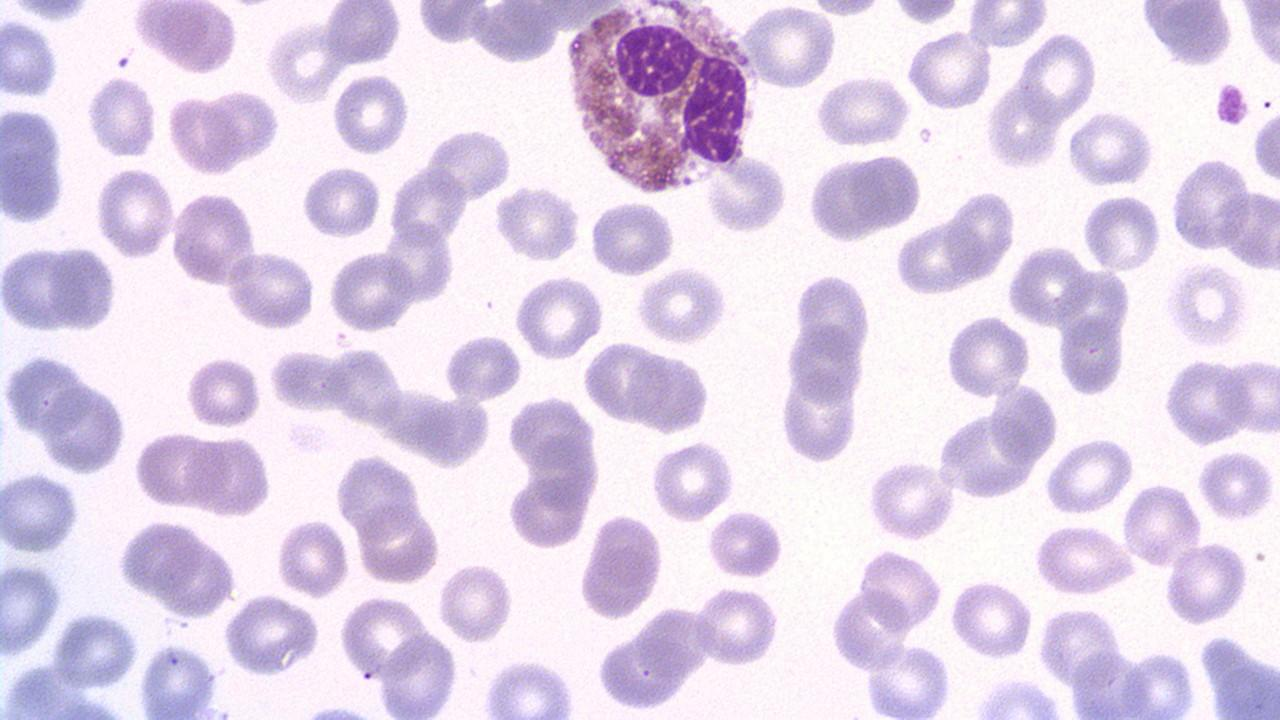Platelets: (221, 596, 321, 676), (703, 510, 786, 578), (267, 348, 349, 414), (0, 16, 61, 103), (1251, 106, 1280, 184), (4, 0, 93, 23), (1210, 81, 1250, 129), (282, 419, 330, 456), (915, 125, 933, 146)
RBC: (577, 511, 664, 621), (169, 191, 256, 289), (739, 5, 839, 90), (222, 593, 320, 679), (128, 0, 237, 76), (513, 272, 604, 363), (1169, 155, 1251, 254), (337, 594, 429, 682), (635, 263, 731, 347), (1030, 522, 1136, 598), (94, 164, 176, 262), (778, 367, 860, 464), (594, 632, 692, 713), (691, 584, 783, 670), (1164, 258, 1248, 352), (1041, 434, 1137, 516), (1160, 357, 1248, 446), (944, 312, 1031, 402), (864, 457, 956, 542), (855, 546, 944, 632), (224, 247, 316, 330), (132, 429, 225, 511), (117, 517, 206, 602), (813, 72, 912, 148), (334, 452, 421, 538), (948, 577, 1036, 662), (792, 271, 873, 363), (1036, 604, 1122, 690), (1164, 540, 1248, 628), (648, 438, 736, 522), (1018, 30, 1099, 121), (378, 630, 461, 718), (1119, 481, 1201, 570), (984, 78, 1061, 172), (0, 241, 76, 336), (893, 218, 983, 298), (862, 640, 953, 719), (1008, 241, 1092, 326), (329, 248, 412, 334), (53, 610, 140, 692), (493, 183, 581, 264), (629, 347, 709, 436), (154, 536, 238, 620), (354, 502, 438, 586), (705, 150, 789, 233), (828, 587, 910, 672), (784, 321, 866, 406), (264, 18, 344, 105), (944, 188, 1017, 283), (1065, 111, 1155, 188), (1081, 190, 1163, 274), (905, 30, 990, 111), (332, 71, 411, 158), (436, 558, 514, 646), (1, 470, 83, 553), (582, 340, 662, 425), (195, 432, 272, 520), (807, 157, 882, 247), (588, 199, 674, 277), (300, 162, 383, 241), (166, 93, 243, 178), (505, 474, 590, 551), (382, 219, 456, 307), (48, 242, 120, 332), (386, 165, 468, 244), (137, 640, 221, 717), (426, 126, 511, 202), (326, 343, 402, 428), (1067, 644, 1153, 718), (85, 74, 159, 160), (182, 352, 263, 430), (273, 516, 348, 600), (0, 560, 63, 658), (988, 381, 1060, 466), (206, 85, 282, 165), (1196, 448, 1276, 524), (704, 507, 786, 581), (1057, 312, 1127, 398), (852, 150, 924, 232), (478, 658, 578, 716), (441, 332, 526, 400), (322, 1, 403, 67), (1219, 354, 1279, 439), (0, 17, 60, 100), (1223, 187, 1279, 273), (966, 1, 1047, 48), (1232, 2, 1280, 78), (1250, 102, 1280, 186), (886, 0, 962, 26)
WBC: (561, 0, 762, 201), (0, 352, 134, 485), (576, 512, 664, 622), (1, 101, 69, 229), (128, 0, 242, 76), (594, 631, 696, 712), (1137, 0, 1239, 70)
